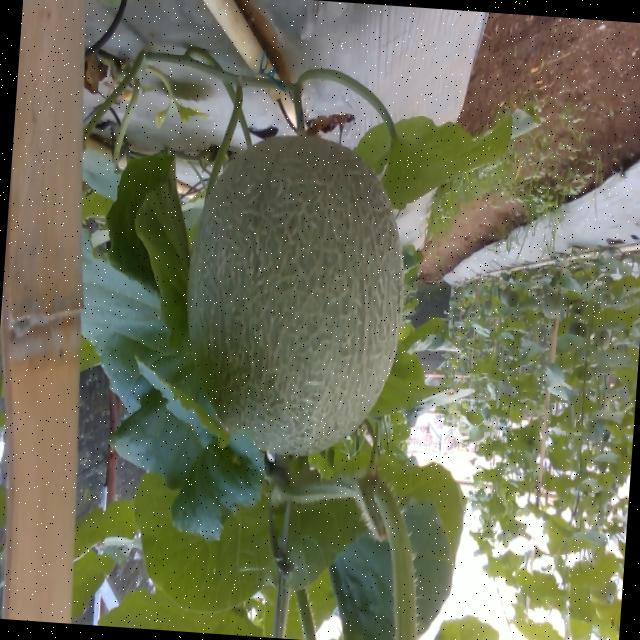melon: (184, 133, 402, 455)
